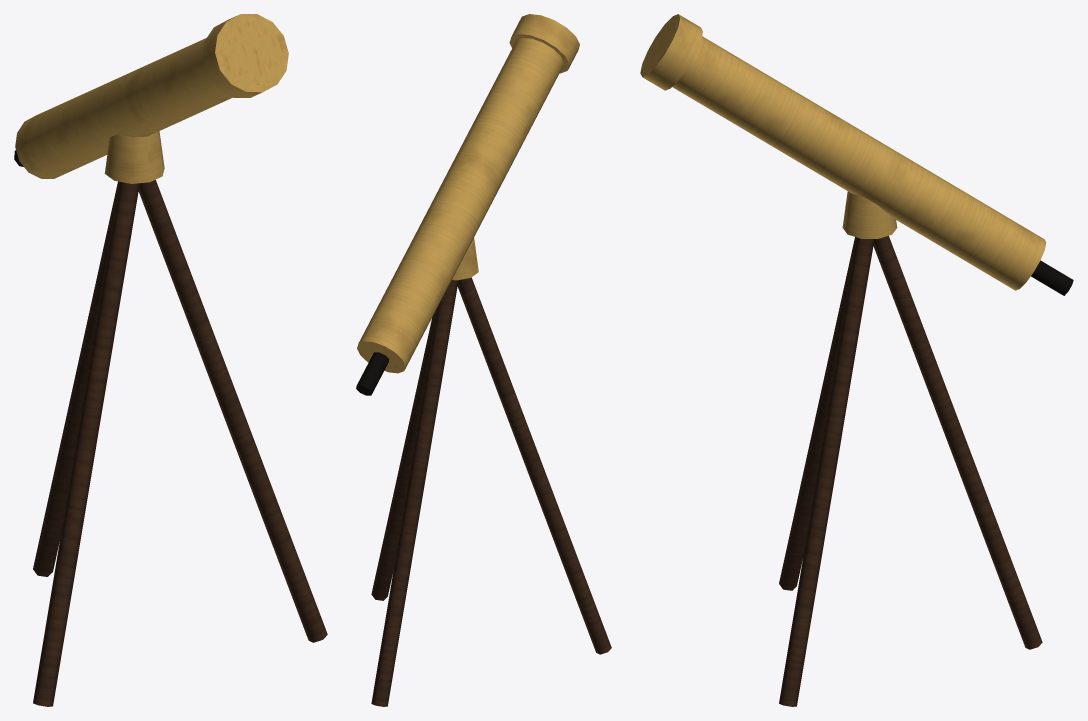
File: telescope.glb
3 views of the same model, side by side, from view 1: azimuth 30°, elevation 25°; view 2: azimuth 150°, elevation 25°; view 3: azimuth 270°, elevation 25° (orthographic). The views are drawn at different scales.
Visible parts, largest first — view 1: telescope; view 2: telescope; view 3: telescope.
Part boxes in pixels (<box>): telescope: <box>14,14,327,706</box>; telescope: <box>356,14,611,706</box>; telescope: <box>640,14,1073,706</box>.
Bounding box in the file's own units: 0.6574 × 1.53 × 0.9511.
Materials: 3 (2 with a texture image).
